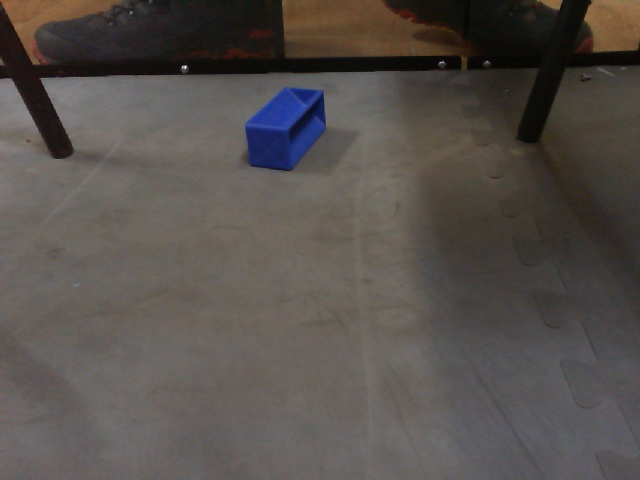BlueSample: (243, 85, 330, 175)
